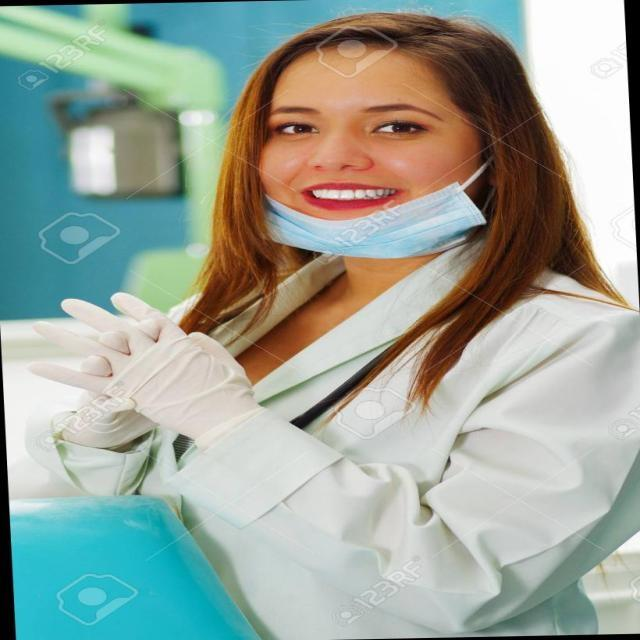hairnet: (220, 56, 514, 268)
